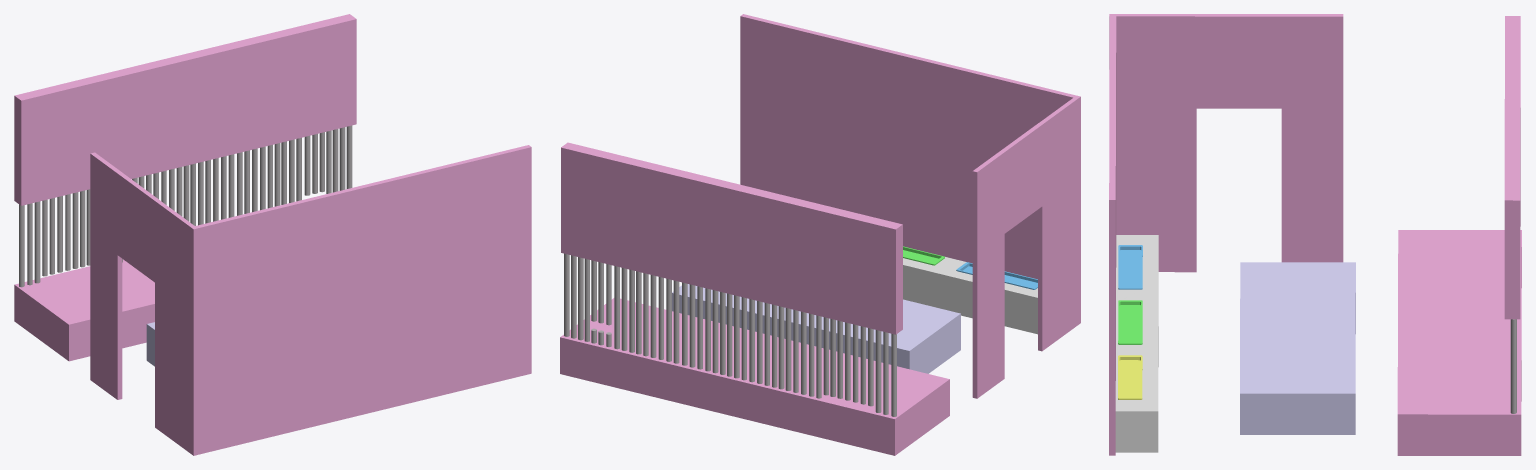
Rendered from meal_test.dae.
3 renders of one model, left to right at view 1: azimuth 30°, elevation 25°; view 2: azimuth 150°, elevation 25°; view 3: azimuth 270°, elevation 25°, orthographic. The views are drawn at different scales.
Visible parts, largest first — view 1: wall1, Cube.006, Cylinder.035, wall2.001, counter, wall2, wall2.002, Cylinder.034, Cylinder.048; view 2: wall1, Cube.006, counter, Cylinder.035, wall2.001, wall2, counter.001, kit, wall2.002, Cylinder.034, Cylinder.048; view 3: counter, counter.001, wall2.001, wall2, kit, wall2.002, Cube.006, wall1, Cylinder.035.
Part boxes in pixels (x1,y1,x2,y2): wall1: (195,145,531,454); Cube.006: (14,14,356,205); Cylinder.035: (19,125,352,287); wall2.001: (155,200,197,455); counter: (14,259,154,361); wall2: (90,152,122,399); wall2.002: (117,172,158,282); Cylinder.034: (42,189,90,276); Cylinder.048: (304,132,324,195); wall1: (740,14,1077,279); Cube.006: (561,142,902,334); counter: (560,298,949,455); Cylinder.035: (564,253,896,416); wall2.001: (1038,96,1080,351); wall2: (972,151,1004,398); counter.001: (672,284,960,373); kit: (903,246,1037,334); wall2.002: (1000,123,1042,233); Cylinder.034: (823,317,873,406); Cylinder.048: (591,260,611,346); counter: (1397,230,1521,455); counter.001: (1240,262,1355,434); wall2.001: (1109,14,1196,272); wall2: (1281,14,1343,262); kit: (1115,235,1158,452); wall2.002: (1195,14,1281,108); Cube.006: (1504,16,1520,319); wall1: (1109,15,1116,455); Cylinder.035: (1510,319,1516,413).
Bounding box in the file's own units: 4.85 × 4.54 × 3.11.
